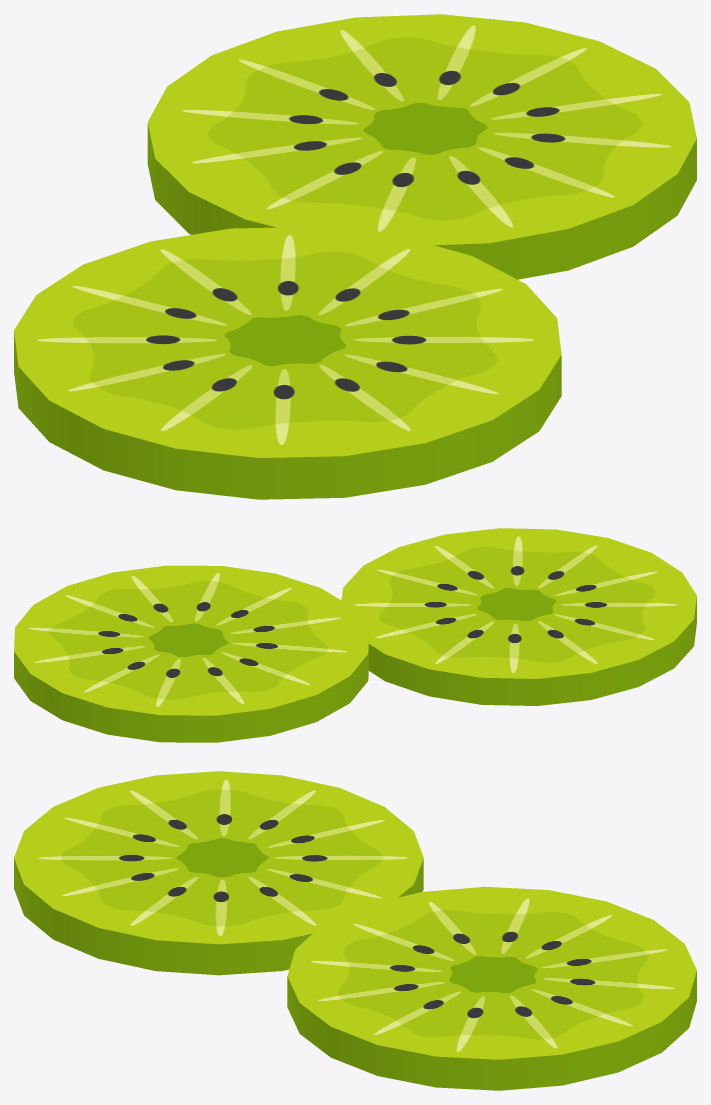
File: Qiiwi_Slice_Qiiwi_0.glb
3 views of the same model, one above another, from view 1: azimuth 30°, elevation 25°; view 2: azimuth 150°, elevation 25°; view 3: azimuth 270°, elevation 25° (orthographic). The views are drawn at different scales.
Parts seen in each view (by area): view 1: Qiiwi_Slice_Qiiwi_0; view 2: Qiiwi_Slice_Qiiwi_0; view 3: Qiiwi_Slice_Qiiwi_0.
Boxes of the visible parts, x1=… form: Qiiwi_Slice_Qiiwi_0: x1=14, y1=14, x2=696, y2=499; Qiiwi_Slice_Qiiwi_0: x1=14, y1=528, x2=696, y2=742; Qiiwi_Slice_Qiiwi_0: x1=14, y1=771, x2=696, y2=1090.
Bounding box in the file's own units: 0.2 × 0.01 × 0.2.
Materials: 1 (1 with a texture image).
